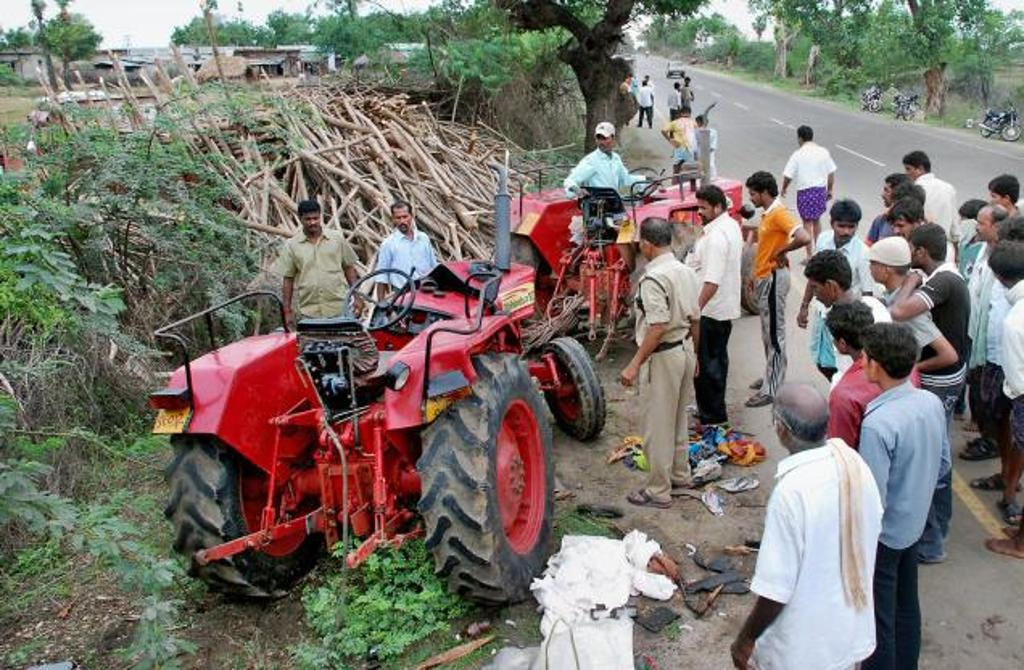face: (861, 347, 881, 384), (812, 280, 834, 307), (835, 219, 857, 243), (871, 256, 890, 283), (976, 214, 995, 241), (893, 218, 913, 243), (697, 199, 716, 224), (394, 209, 412, 232), (908, 244, 925, 268), (302, 213, 321, 233), (596, 132, 613, 152), (881, 184, 895, 208), (640, 235, 654, 259), (832, 332, 846, 355), (749, 188, 764, 208), (991, 191, 1006, 210), (906, 165, 919, 183)
